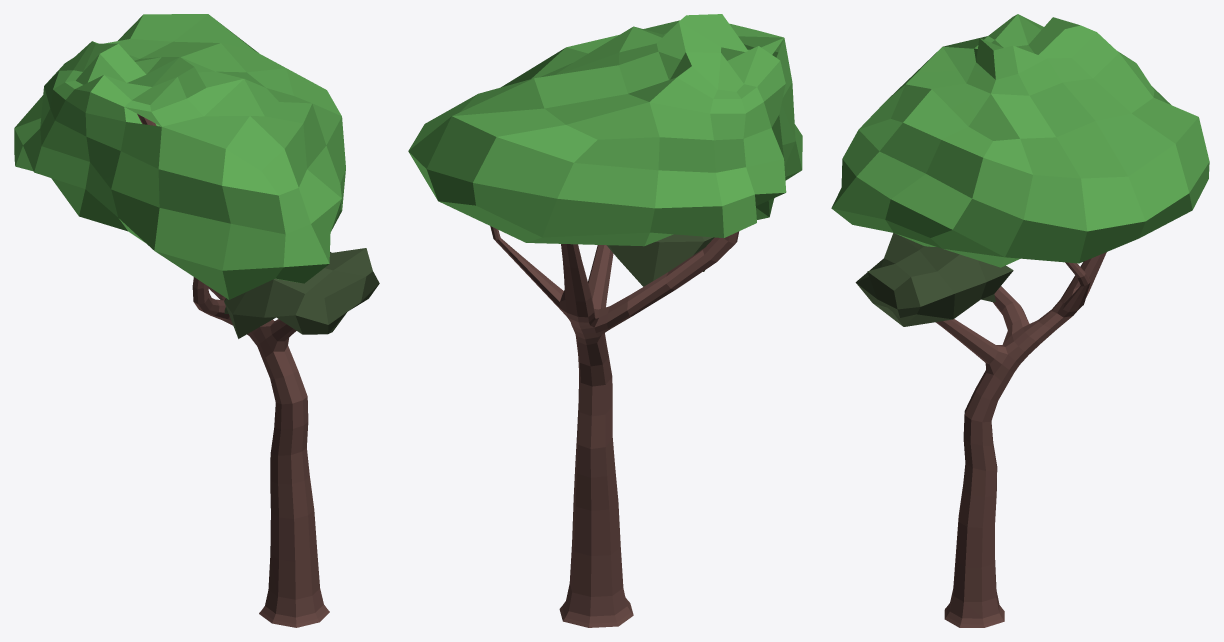
File: env_tree_oak.glb
3 renders of one model, left to right at view 1: azimuth 30°, elevation 25°; view 2: azimuth 150°, elevation 25°; view 3: azimuth 270°, elevation 25°, orthographic. The views are drawn at different scales.
Visible parts, largest first — view 1: env_tree_oak; view 2: env_tree_oak; view 3: env_tree_oak.
Part boxes in pixels (x1=…): env_tree_oak: x1=14, y1=14, x2=379, y2=627; env_tree_oak: x1=408, y1=14, x2=802, y2=627; env_tree_oak: x1=831, y1=14, x2=1209, y2=627.
Bounding box in the file's own units: 1.45 × 2.55 × 1.65.
Materials: 1 (1 with a texture image).
